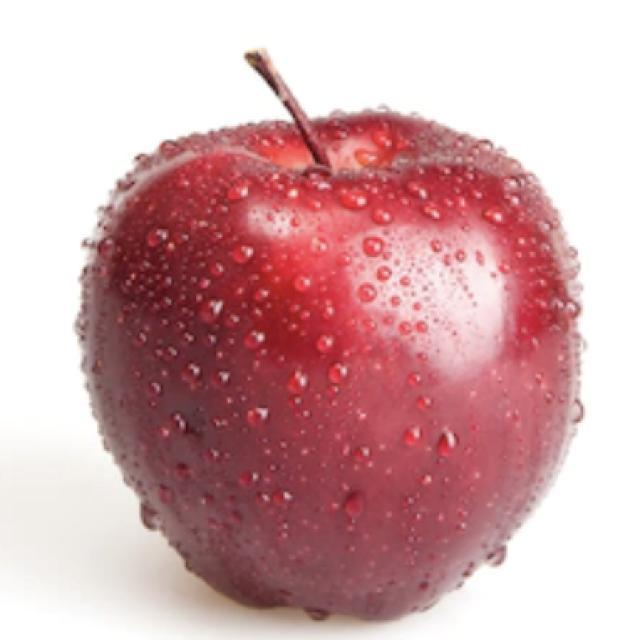Apple: (73, 47, 585, 622)
